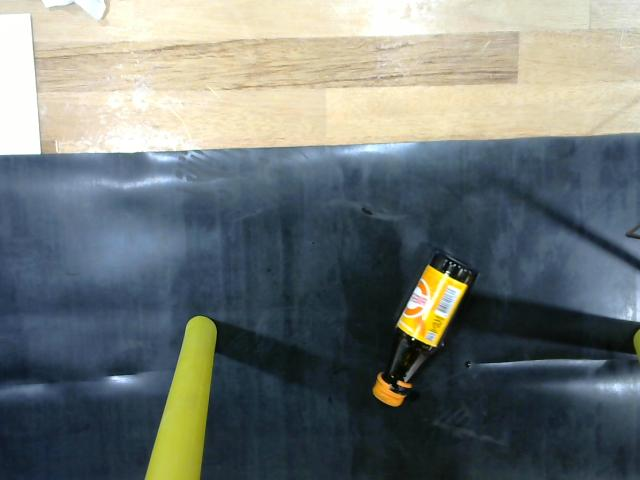glass: (365, 246, 488, 415)
